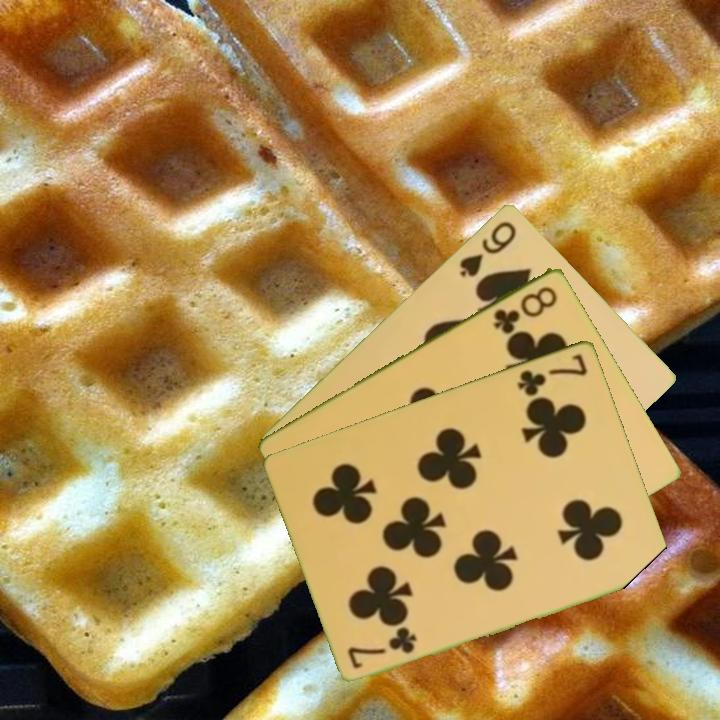7c: (513, 349, 591, 399), (345, 626, 420, 671)
8c: (490, 282, 561, 336)
9s: (455, 217, 519, 280)
